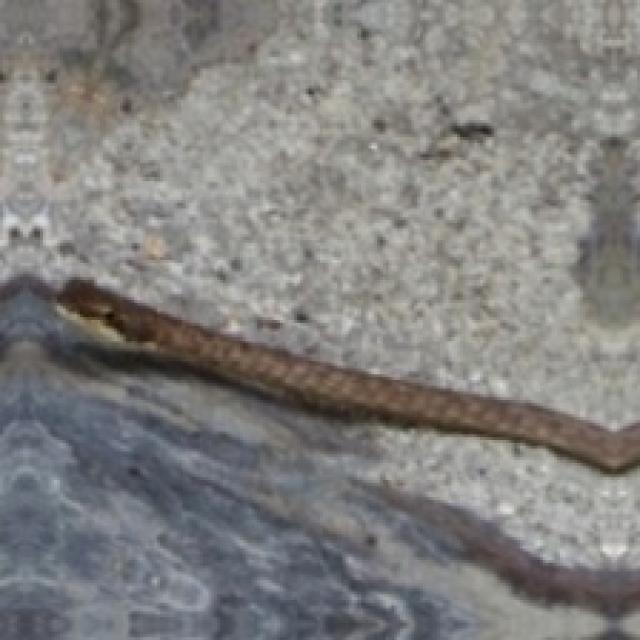philippine whip snake: (56, 279, 640, 473), (57, 277, 637, 471)
